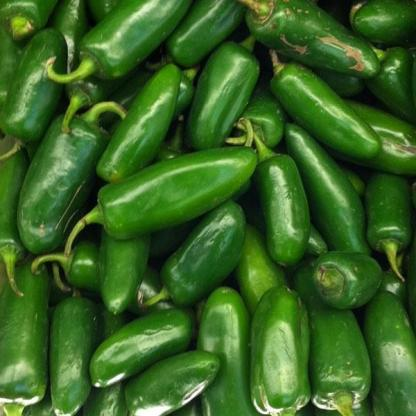--: (60, 142, 258, 242), (267, 45, 382, 166), (138, 197, 248, 321), (247, 280, 318, 416)
